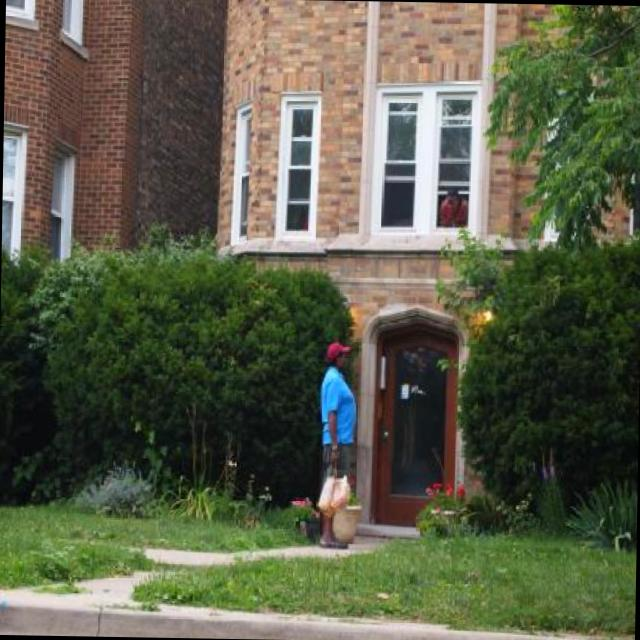Person: (308, 336, 360, 544), (436, 185, 468, 228)
